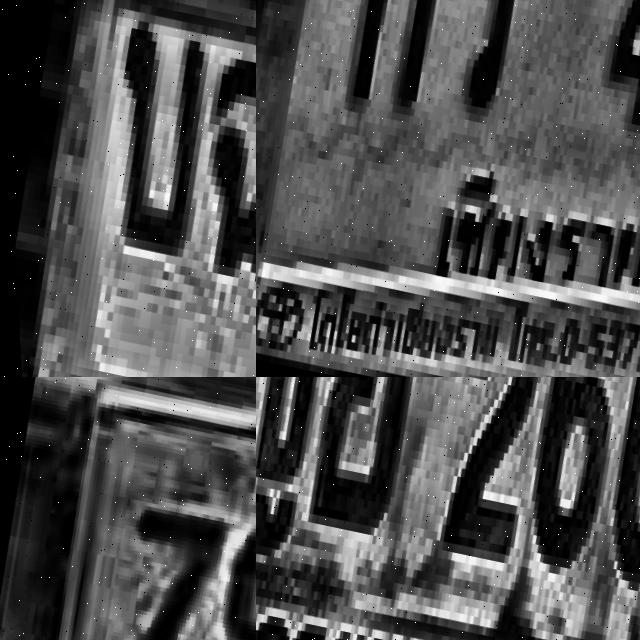license-plate: (256, 0, 640, 377), (256, 377, 640, 640), (0, 0, 256, 377), (0, 377, 256, 640)
